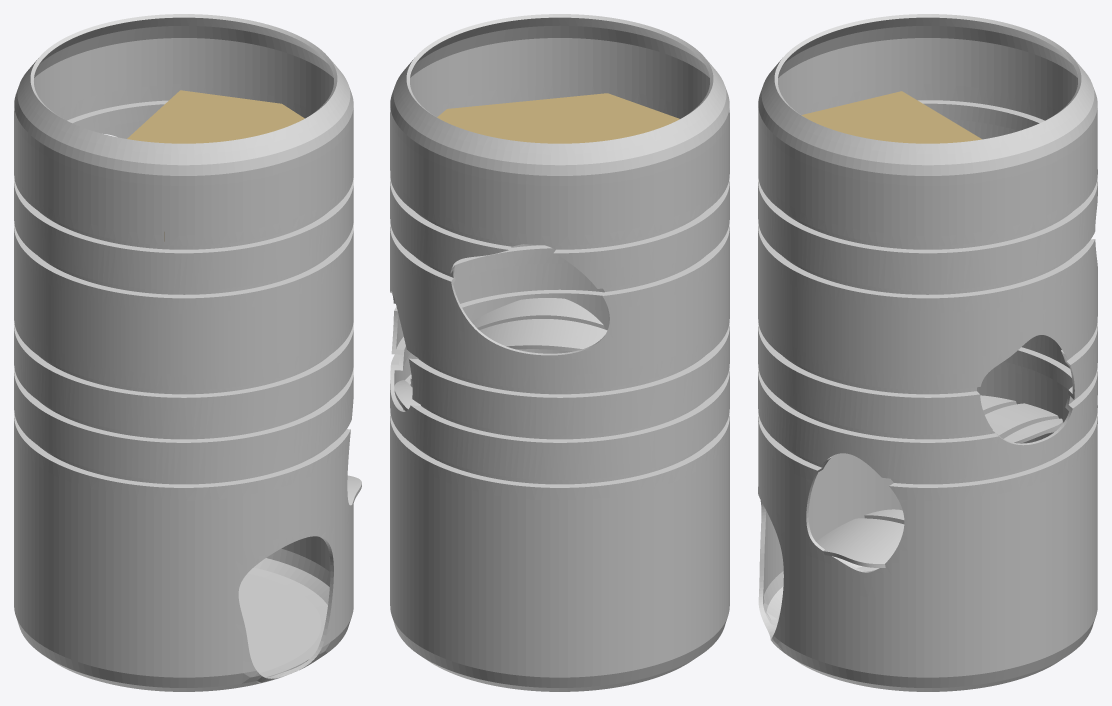
File: PET.fbx
3 renders of one model, left to right at view 1: azimuth 30°, elevation 25°; view 2: azimuth 150°, elevation 25°; view 3: azimuth 270°, elevation 25°, orthographic.
Visible parts, largest first — view 1: 개체_3, 개체_5; view 2: 개체_3, 개체_5, 개체_4; view 3: 개체_3, 개체_5, 개체_1, 개체_2.
Boxes of the visible parts, x1,y1,x2,y2 form: 개체_3: (14, 14, 353, 691); 개체_5: (127, 90, 304, 241); 개체_3: (390, 14, 729, 691); 개체_5: (437, 93, 679, 143); 개체_4: (472, 298, 607, 351); 개체_3: (758, 14, 1097, 691); 개체_5: (801, 91, 981, 143); 개체_1: (816, 509, 904, 567); 개체_2: (980, 395, 1063, 443).
Bounding box in the file's own units: 1.54 × 1.54 × 2.74.
